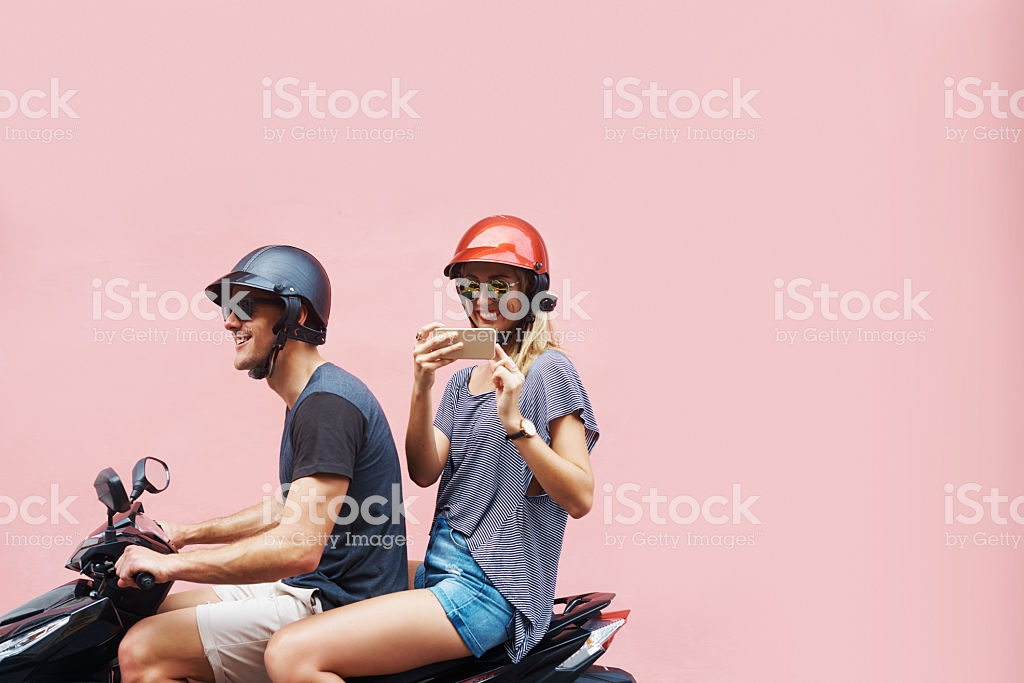helmet: (219, 237, 332, 332), (447, 213, 555, 298)
